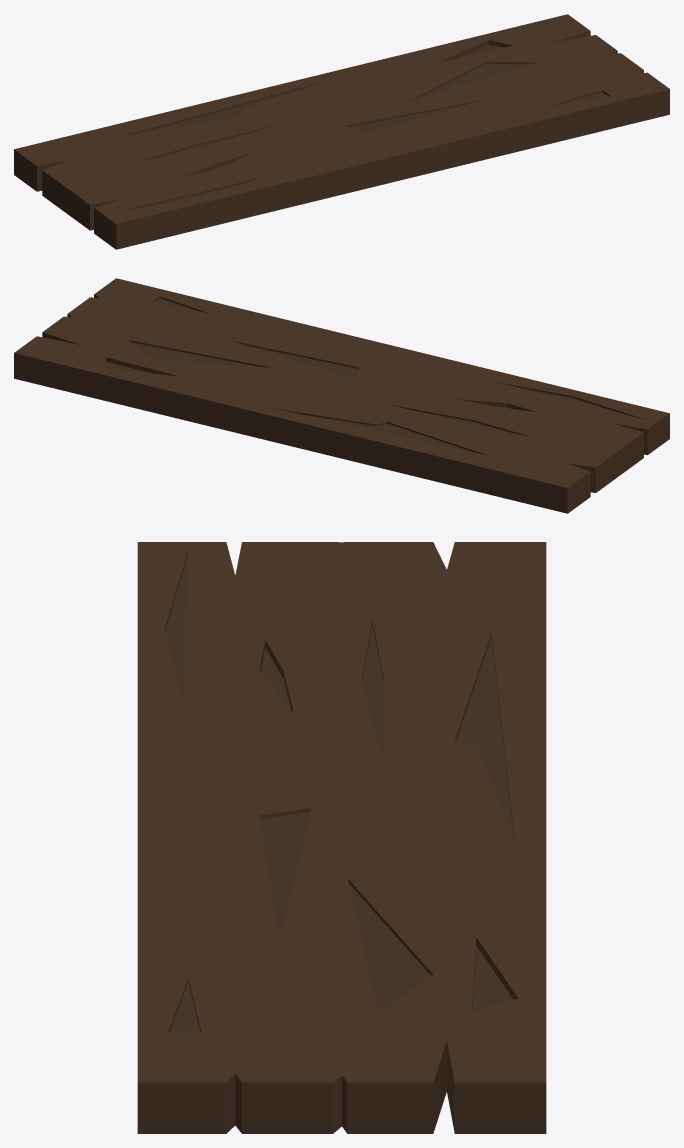
File: Planche Mine2.fbx
The picture shows the model from 3 angles, top to bottom: view 1: azimuth 30°, elevation 25°; view 2: azimuth 150°, elevation 25°; view 3: azimuth 270°, elevation 25°; orthographic projection. The views are drawn at different scales.
Parts seen in each view (by area): view 1: Cube.002; view 2: Cube.002; view 3: Cube.002.
Boxes of the visible parts, x1=… form: Cube.002: x1=14, y1=14, x2=669, y2=249; Cube.002: x1=14, y1=278, x2=669, y2=513; Cube.002: x1=137, y1=542, x2=546, y2=1133.
Size of the model in its own units: 626 by 27.71 by 200.
